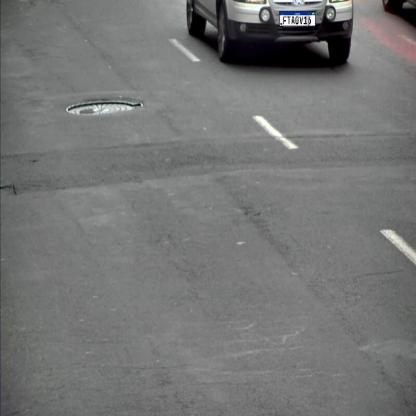PlacaM: (279, 11, 316, 26)
